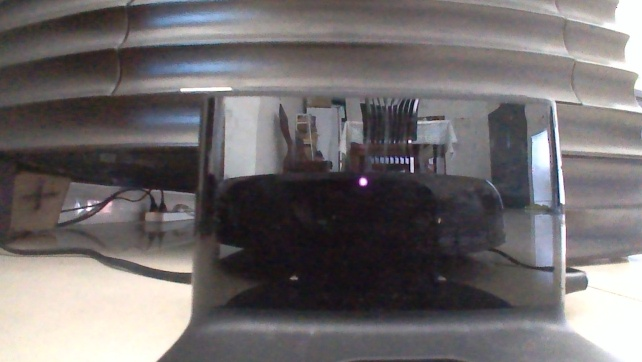wire: (0, 185, 192, 286)
